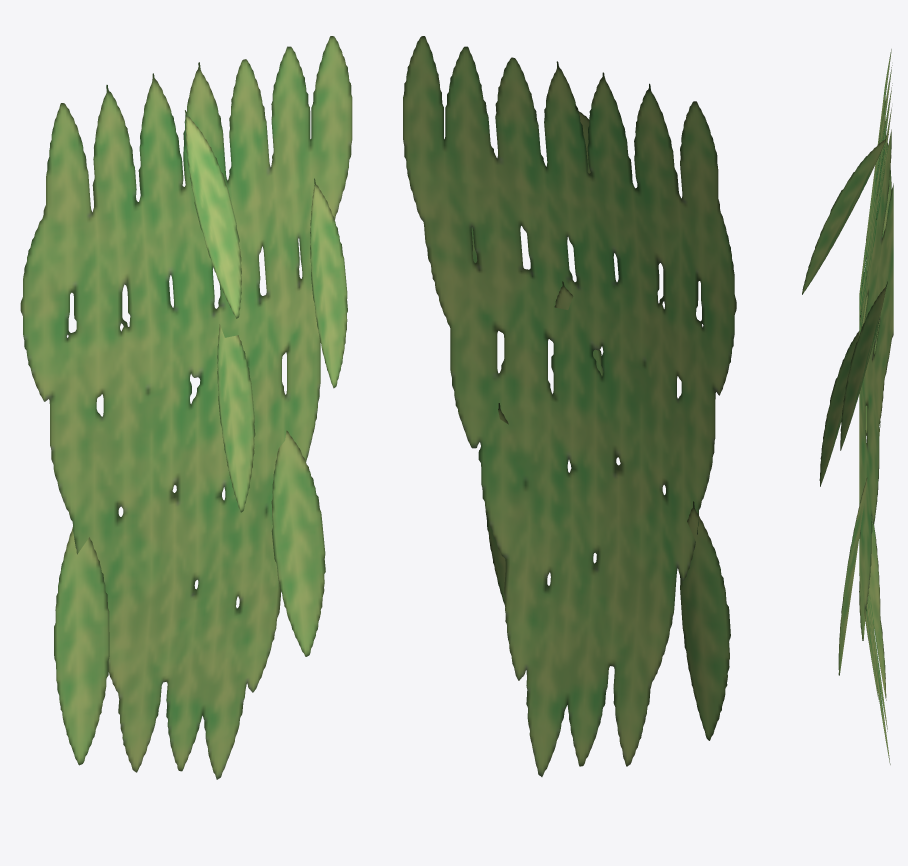
Rendered from LeafSetA_20.fbx.
3 renders of one model, left to right at view 1: azimuth 30°, elevation 25°; view 2: azimuth 150°, elevation 25°; view 3: azimuth 270°, elevation 25°, orthographic. The views are drawn at different scales.
Visible parts, largest first — view 1: LeafSetA_20; view 2: LeafSetA_20; view 3: LeafSetA_20.
Boxes of the visible parts, bbox=[...] form: LeafSetA_20: bbox=[20, 36, 352, 779]; LeafSetA_20: bbox=[403, 36, 736, 776]; LeafSetA_20: bbox=[802, 49, 893, 764].
Bounding box in the file's own units: 0.4242 × 0.8805 × 0.1323.
